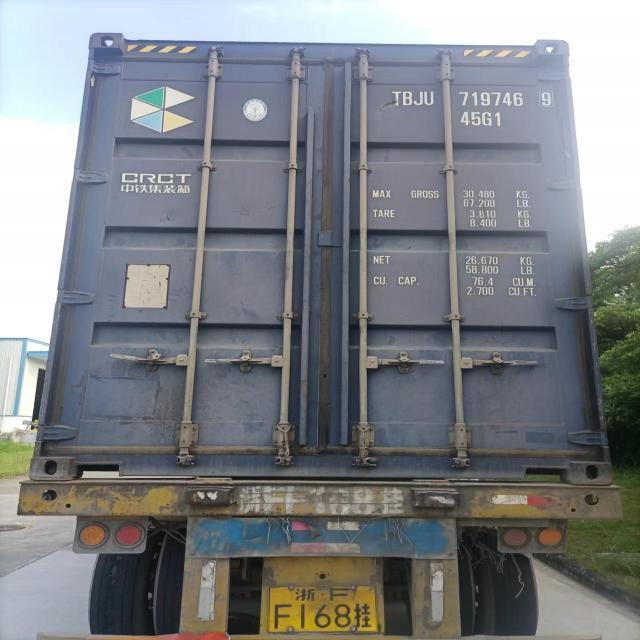ISO: (462, 112, 502, 128)
container_number: (400, 90, 558, 109)
